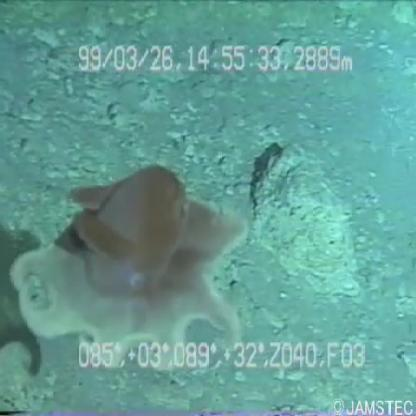Bio: (5, 158, 253, 379)
